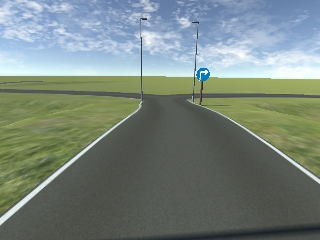right: (196, 68, 210, 82)
